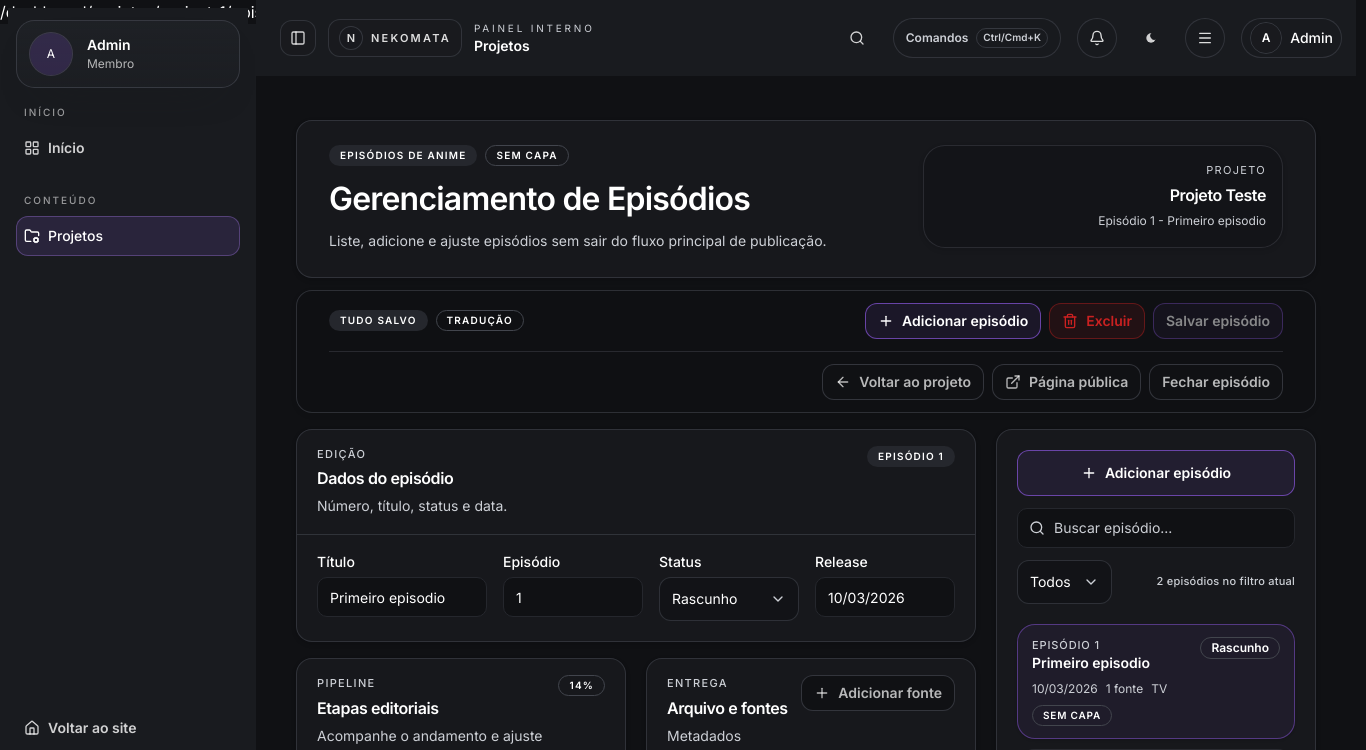
Scenario: DashboardProjectEpisodeEditor › abre o leave guard ao adicionar com alterações pendentes e permite descartar
This screenshot has width=1366, height=750.
Expected: the heading "Gerenciamento de Episódios" is shown, [329,179,750,218]
Replace the text in the field labelled "Título" with "Primeiro episodio alterado". click: (402, 597)
box: [317,577,487,617]
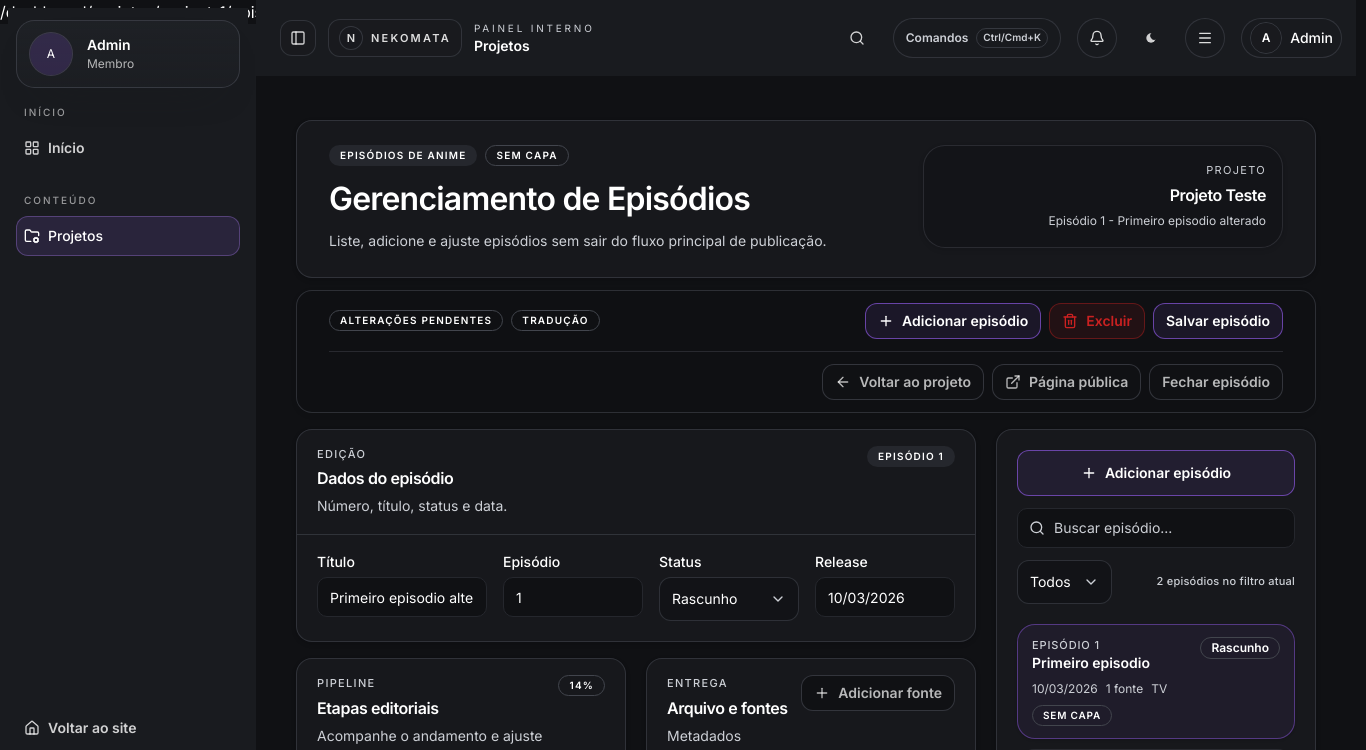
Click the button "Adicionar episódio" in the row of "Alterações pendentes". click: click(953, 321)
box: [865,303,1041,339]
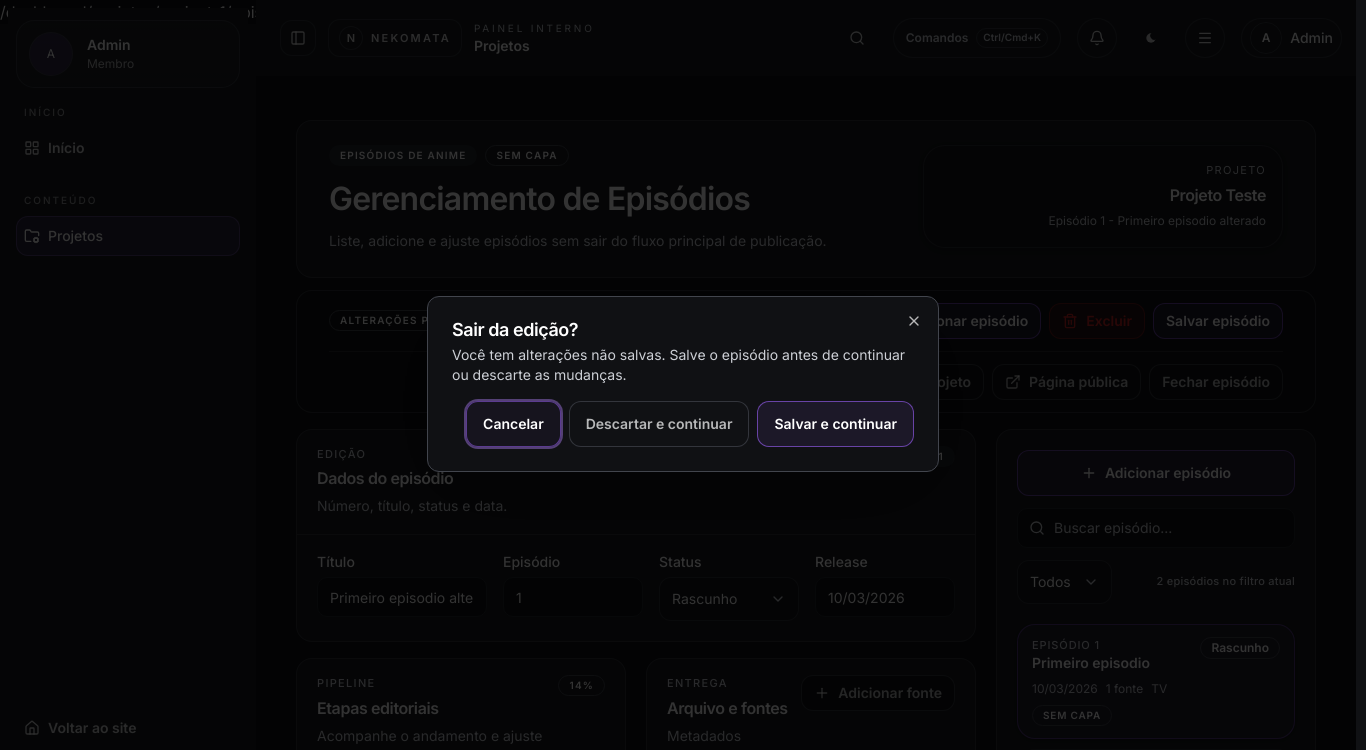
Expected: the dialog with test id "anime-episode-unsaved-leave-dialog" is shown, [427,296,939,472]
Click the button "Descartar e continuar". click: click(659, 424)
box: [569,401,750,447]
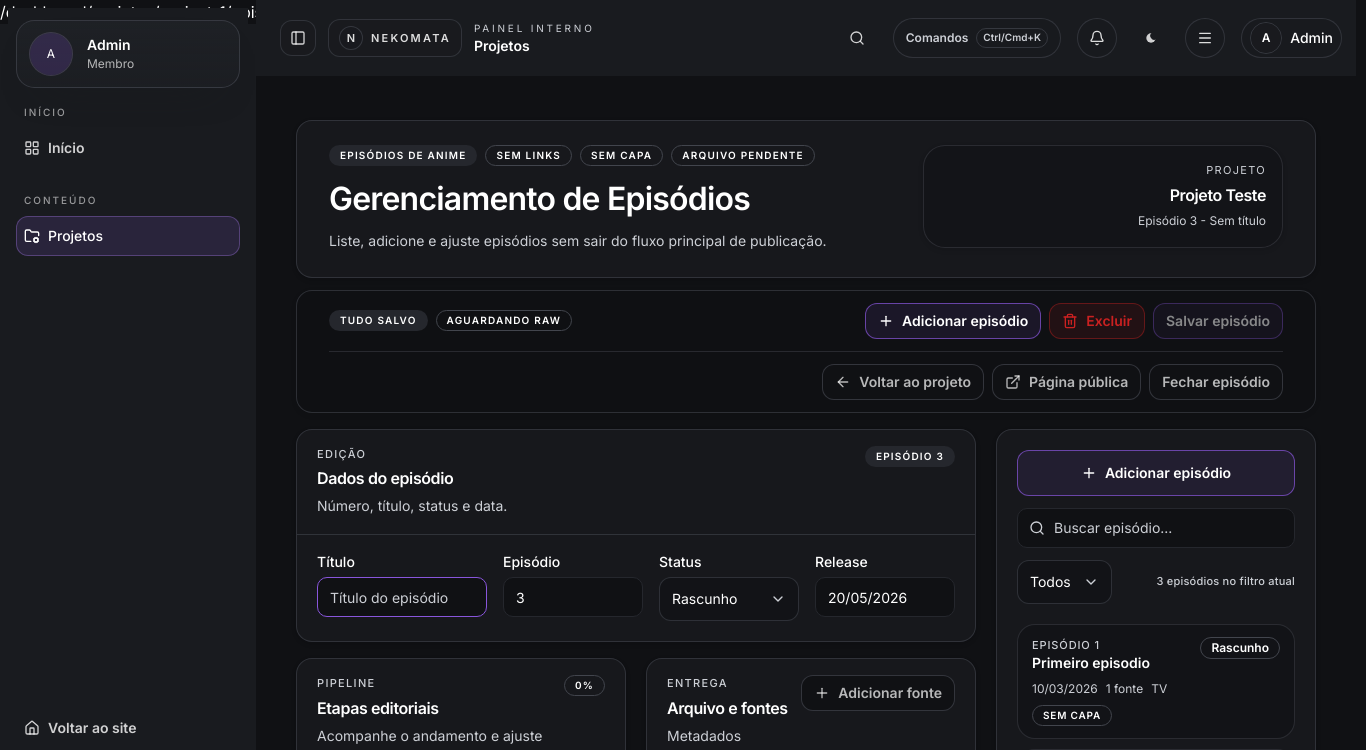
Expected: the text with test id "location" reads "/dashboard/projetos/project-1/episodios/3", [0,2,320,22]
